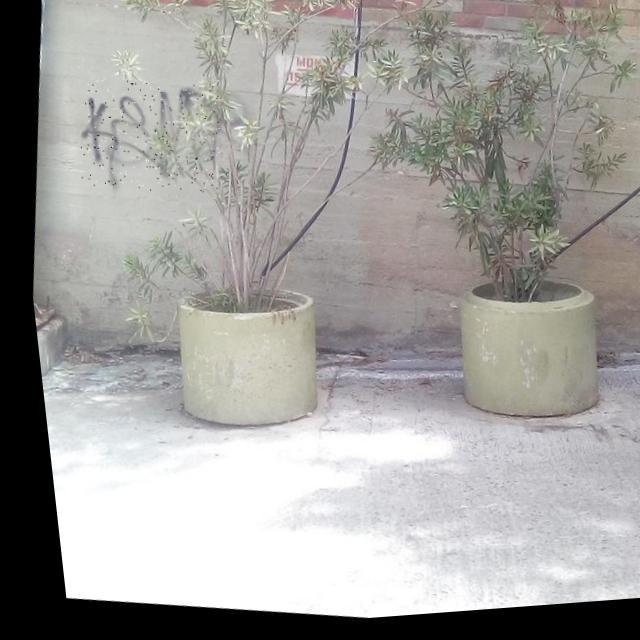-: (66, 70, 229, 207)
